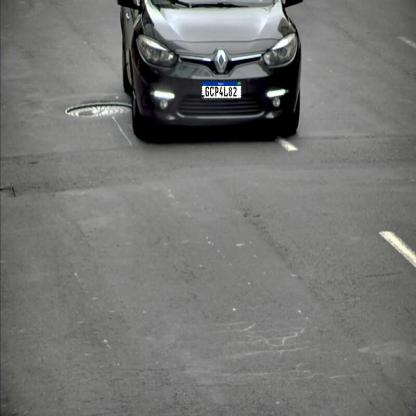PlacaM: (201, 81, 242, 99)
